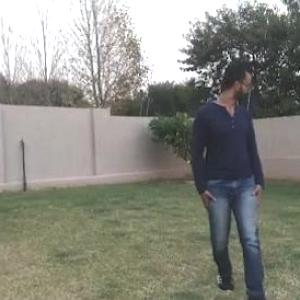follow: (175, 4, 286, 299)
